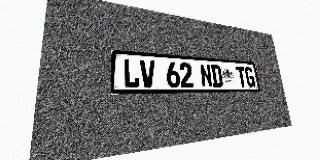2: (179, 62, 194, 87)
6: (166, 61, 181, 88)
D: (210, 64, 223, 87)
G: (244, 67, 256, 87)
L: (123, 58, 140, 88)
N: (199, 64, 213, 87)
T: (235, 66, 247, 87)
V: (140, 60, 156, 88)
